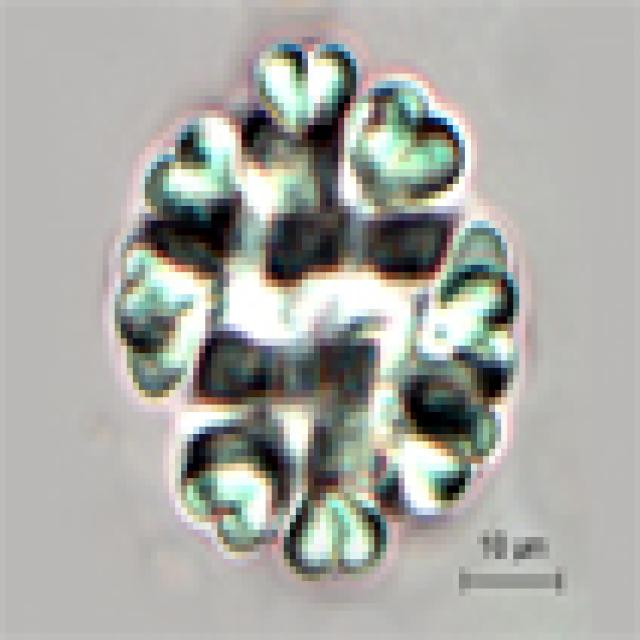Blue Green Algae: (344, 59, 459, 206), (103, 236, 205, 360), (145, 110, 247, 221), (254, 37, 356, 140), (278, 478, 380, 581), (181, 449, 266, 559), (435, 221, 513, 331)
